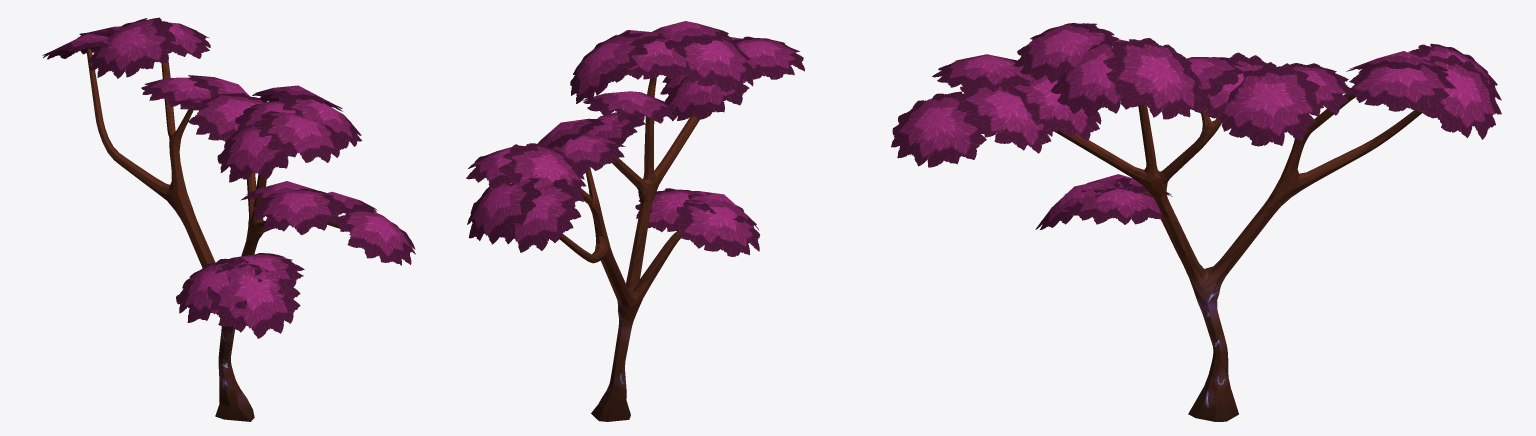
The model's file is Aula 11 - árvore.fbx.
3 views of the same model, side by side, from view 1: azimuth 30°, elevation 25°; view 2: azimuth 150°, elevation 25°; view 3: azimuth 270°, elevation 25° (orthographic). The views are drawn at different scales.
Parts seen in each view (by area): view 1: FolhaBlender.019, Cube; view 2: FolhaBlender.019, Cube; view 3: FolhaBlender.019, Cube.
Part boxes in pixels (x1,y1,x2,y2): FolhaBlender.019: [42, 17, 415, 338]; Cube: [86, 48, 339, 421]; FolhaBlender.019: [466, 21, 804, 256]; Cube: [559, 77, 699, 421]; FolhaBlender.019: [891, 23, 1501, 229]; Cube: [1054, 94, 1422, 421].
Bounding box in the file's own units: 2392 × 4433 × 6834.
